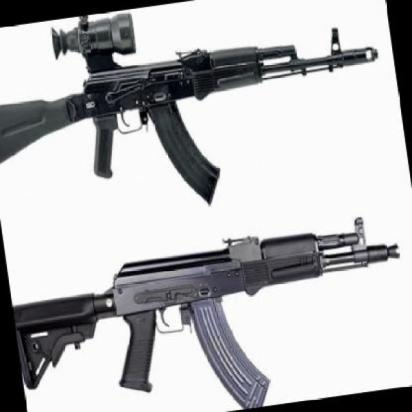Gun: (0, 0, 399, 239), (4, 200, 412, 412)
